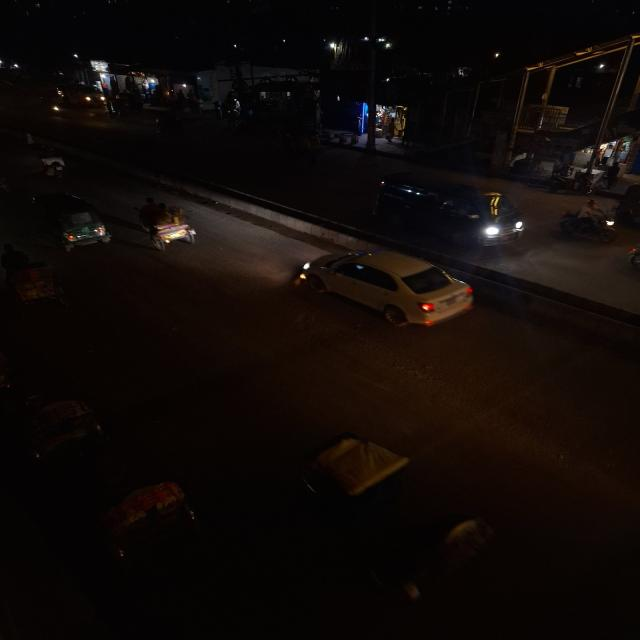car: (290, 246, 481, 331), (370, 174, 531, 248)
cng: (28, 189, 112, 251)
motorcycle: (555, 209, 619, 245), (624, 239, 640, 279)
rickshaw: (68, 477, 204, 573), (0, 390, 110, 467), (0, 244, 71, 311), (132, 196, 205, 252), (31, 144, 73, 180), (611, 179, 640, 229)
